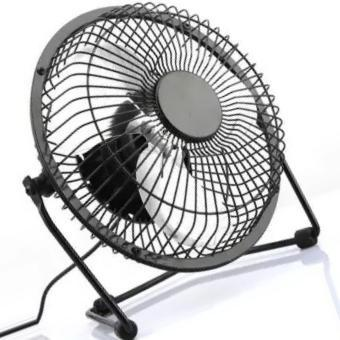fan: (0, 0, 314, 340)
